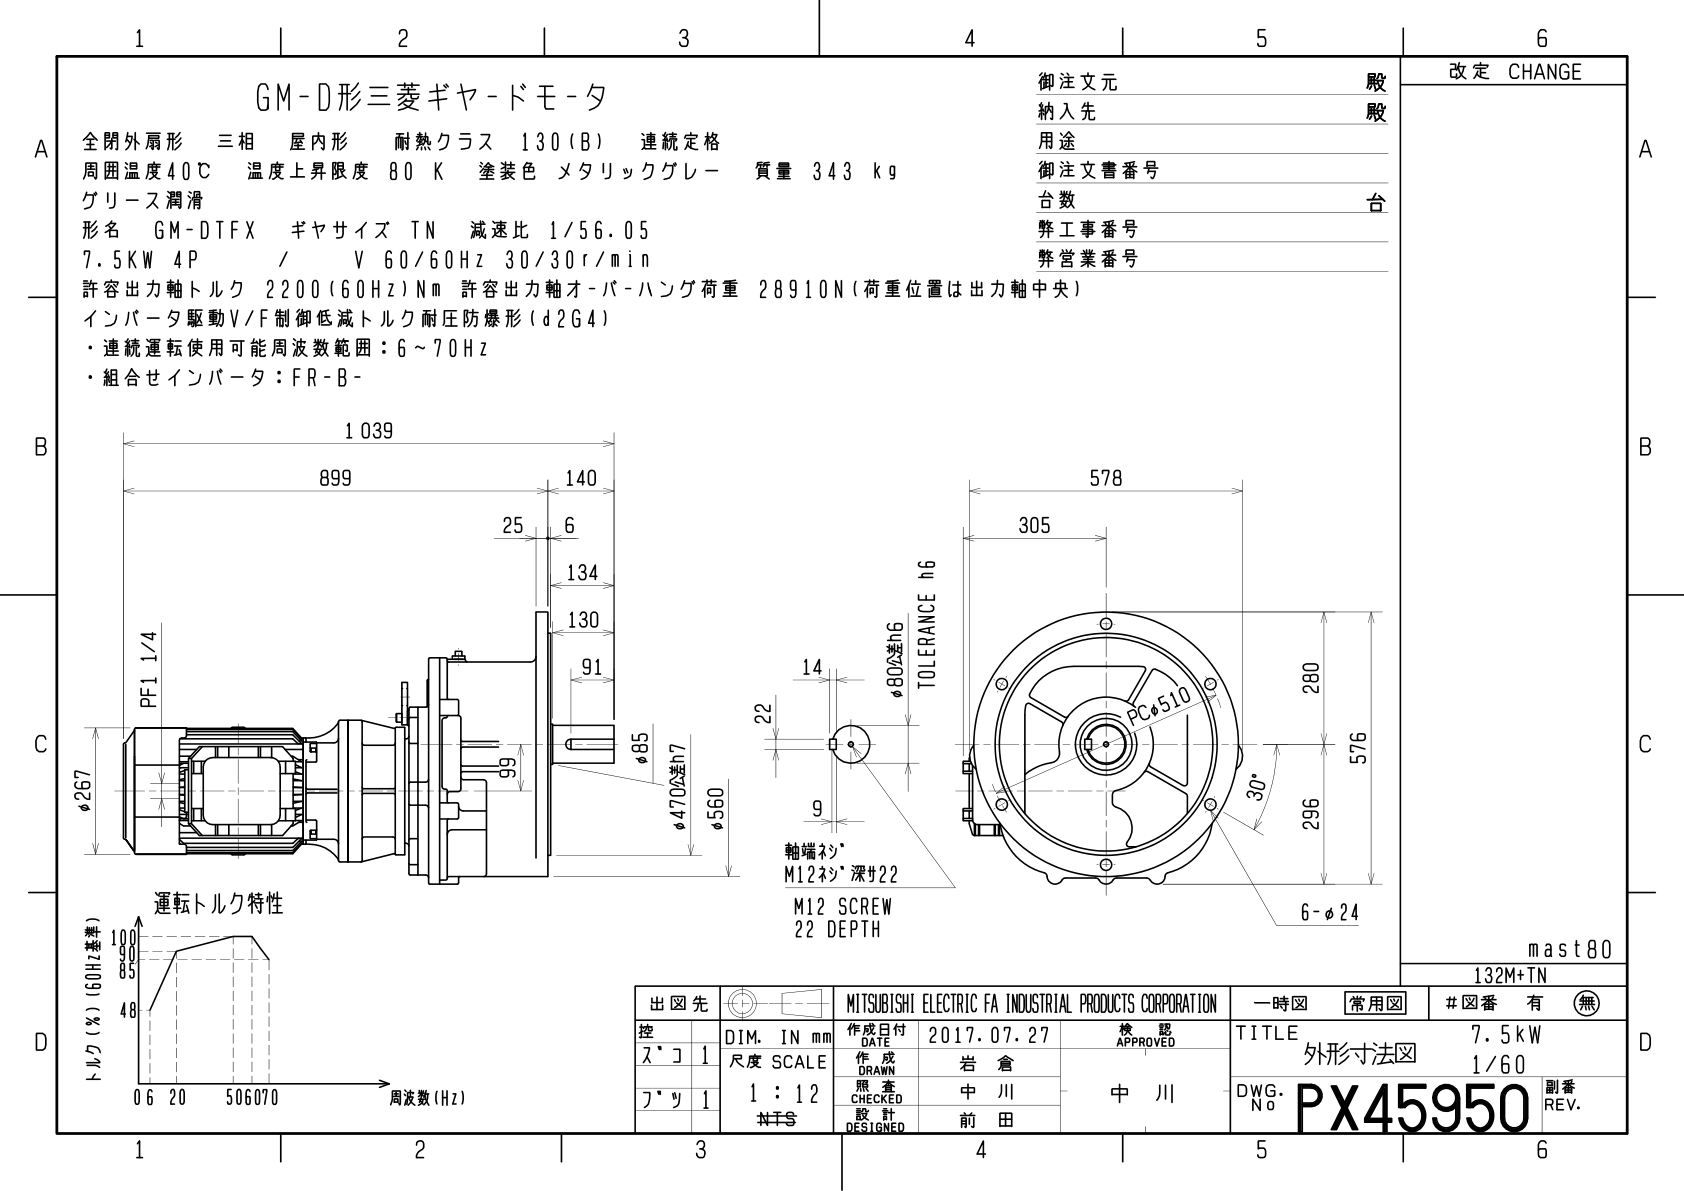GM_D_VF制御屋内_三相_フランジ: (1, 1, 1674, 1181)
